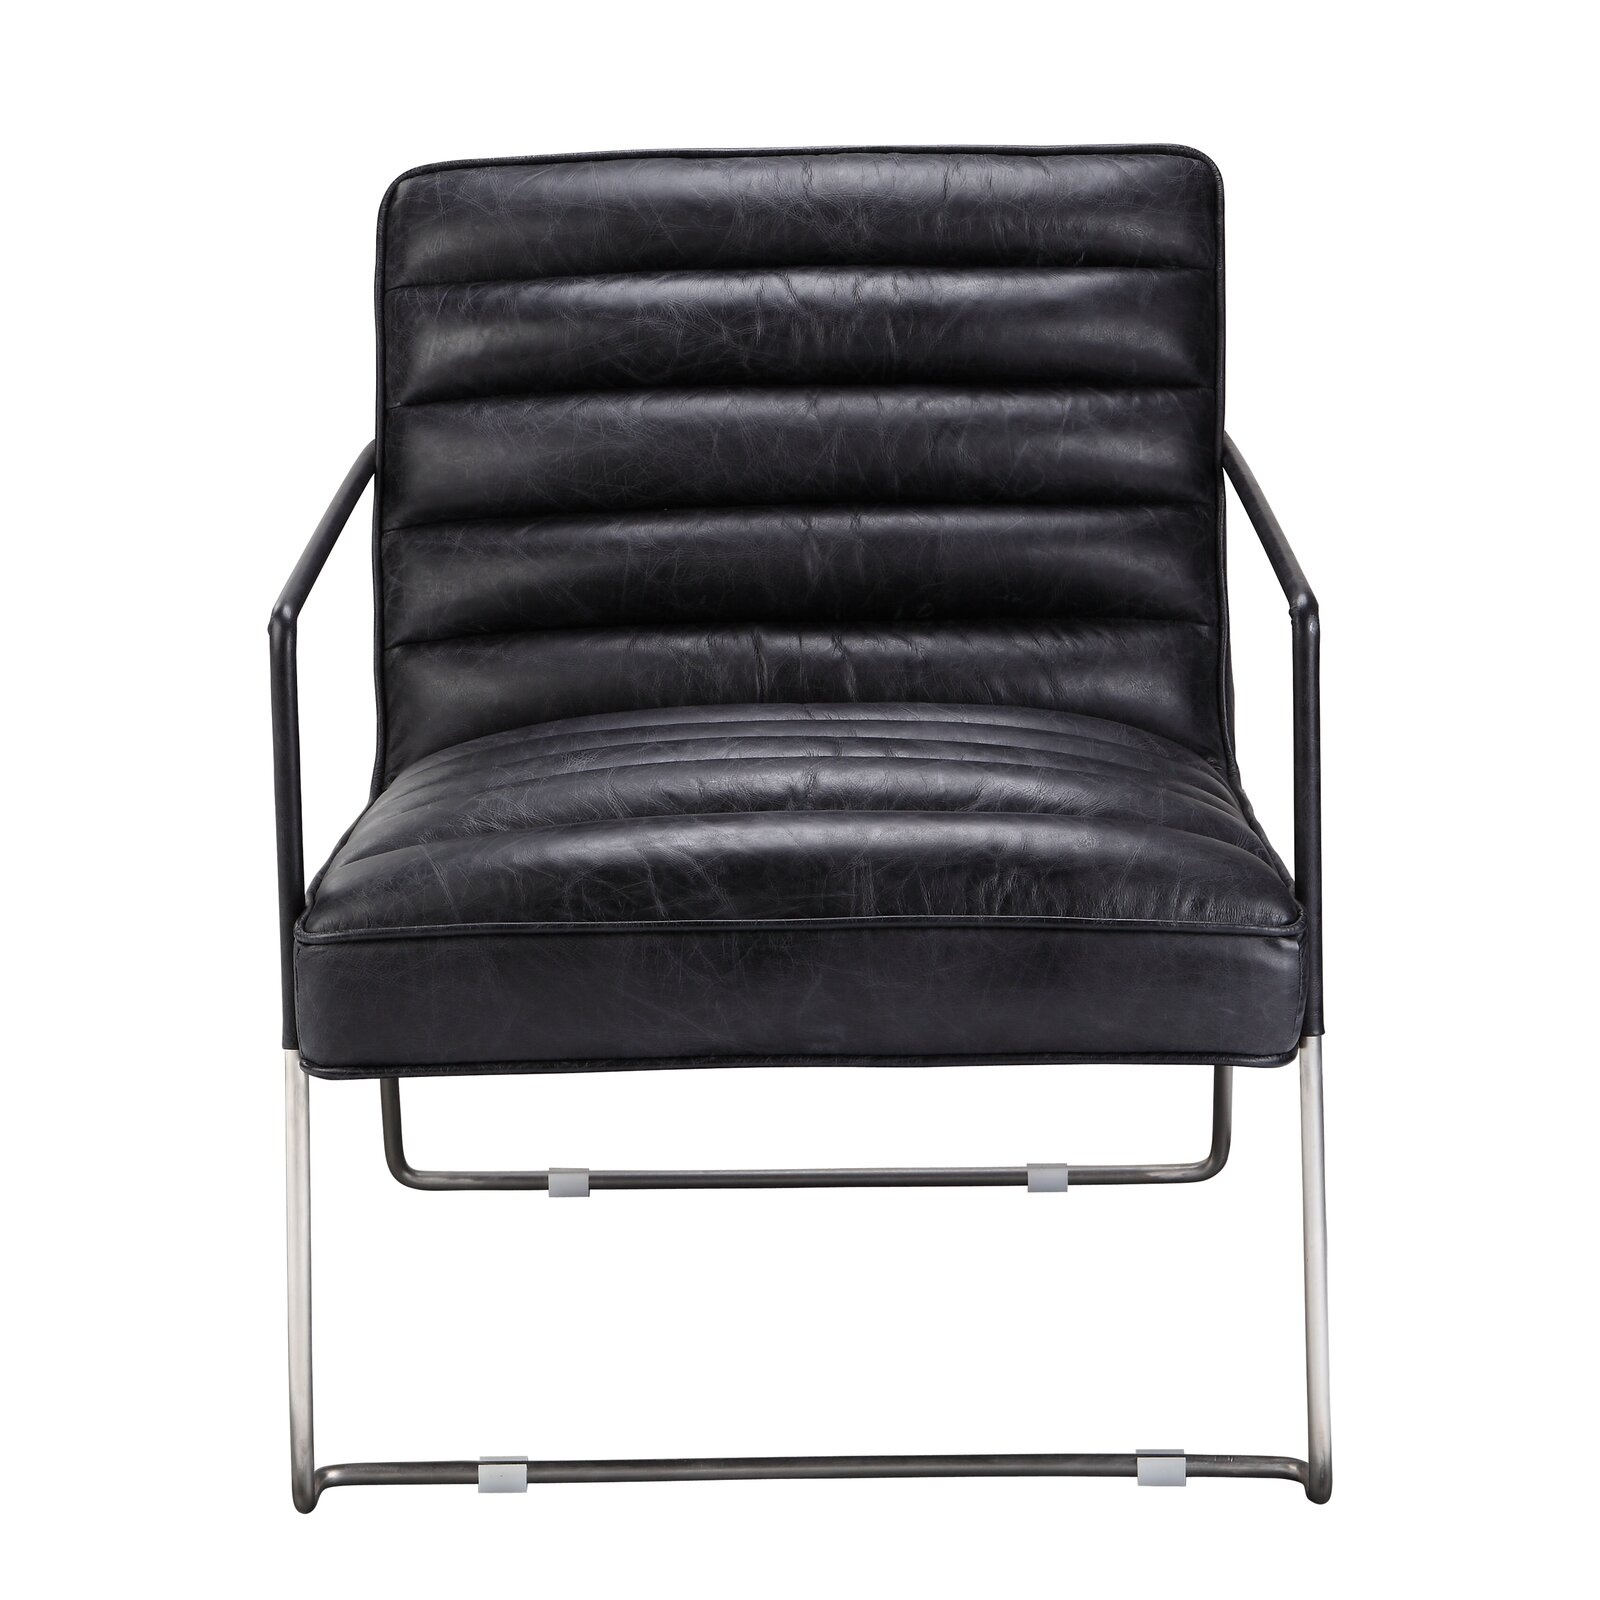obstacle: (271, 147, 1330, 1508)
